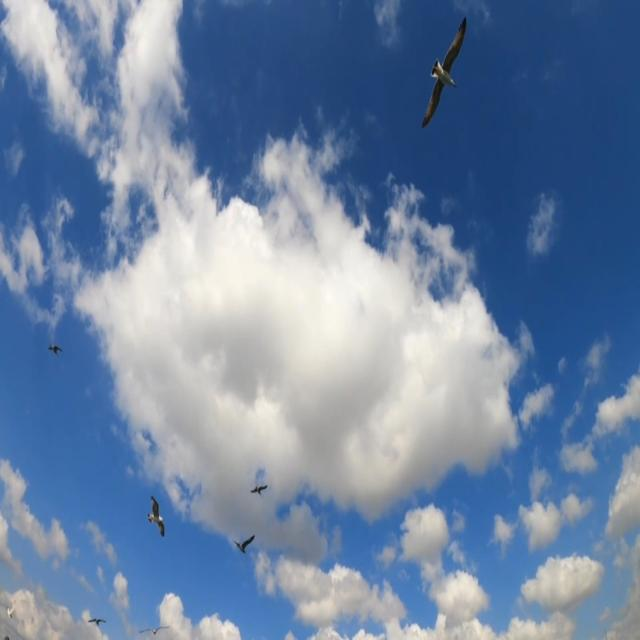bird: (423, 15, 475, 137), (142, 484, 182, 548), (34, 328, 65, 376), (245, 470, 277, 511), (234, 522, 260, 571), (135, 610, 177, 640), (81, 602, 112, 640), (2, 600, 28, 634)
